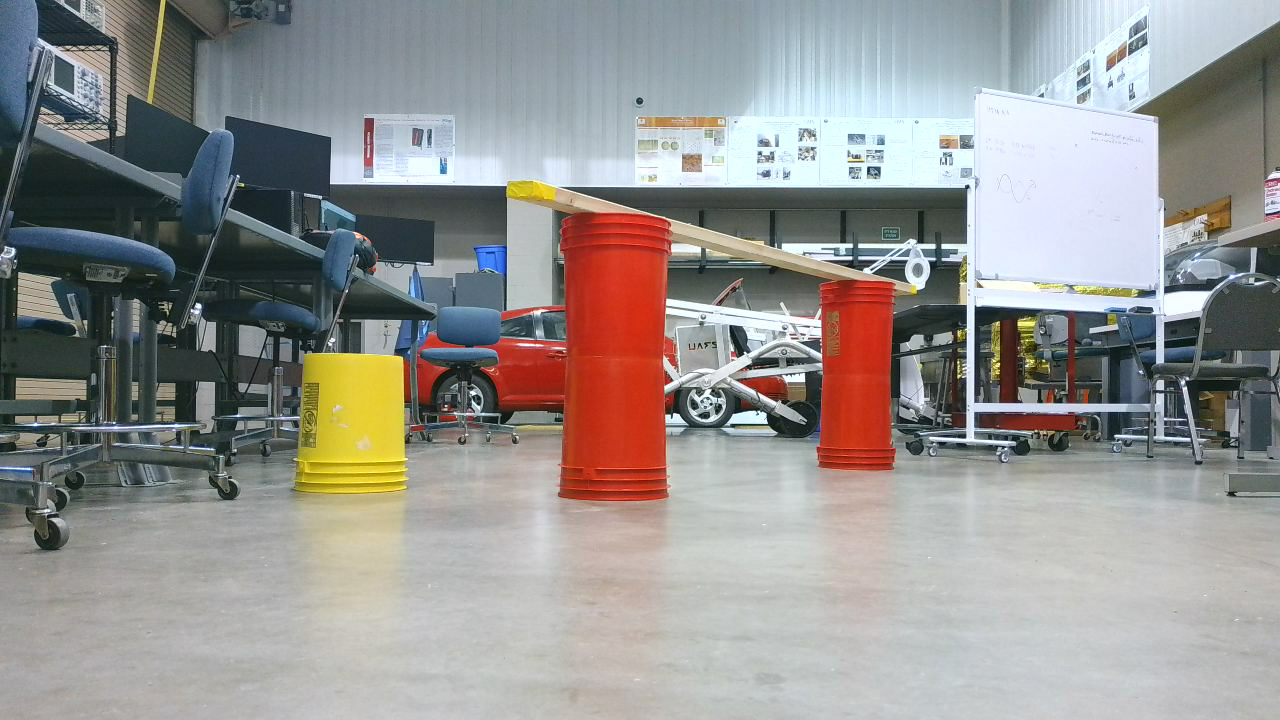red_bucket_arch: (508, 181, 915, 511)
yellow_bucket: (292, 352, 423, 500)
